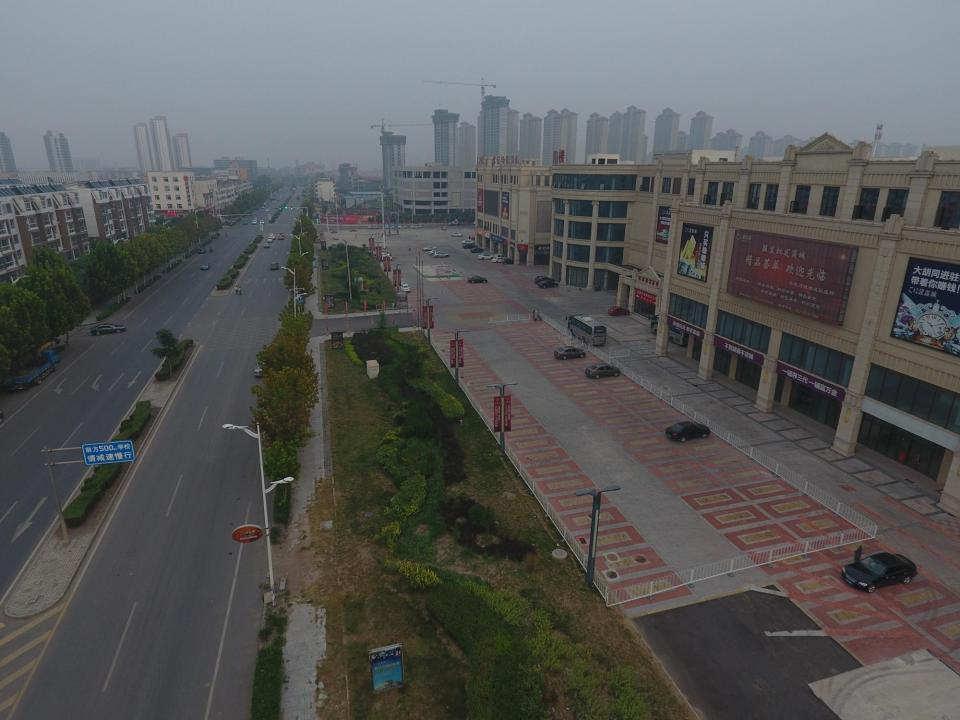bus: (648, 311, 689, 345), (568, 315, 606, 345)
car: (841, 554, 916, 592), (664, 420, 712, 443), (551, 345, 583, 360), (90, 323, 126, 336), (587, 362, 619, 376), (253, 360, 268, 377), (609, 307, 628, 316), (466, 273, 483, 283), (539, 281, 558, 288), (535, 275, 553, 281), (491, 256, 509, 261), (431, 249, 446, 255), (379, 253, 396, 258), (198, 260, 208, 268), (400, 284, 412, 290), (265, 232, 274, 240), (422, 245, 436, 250), (472, 247, 486, 252), (450, 231, 463, 236), (270, 262, 280, 268), (432, 252, 447, 256), (479, 253, 490, 258), (277, 232, 285, 238), (462, 243, 474, 246), (261, 241, 267, 247), (438, 224, 444, 229), (243, 219, 248, 225), (251, 218, 256, 222), (258, 218, 263, 222)
truck: (5, 349, 61, 392)
